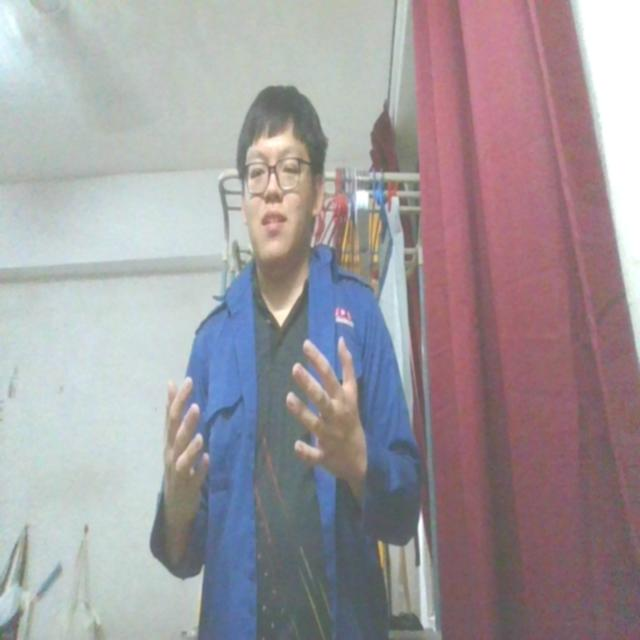person_with_labcoat: (151, 87, 421, 639)
